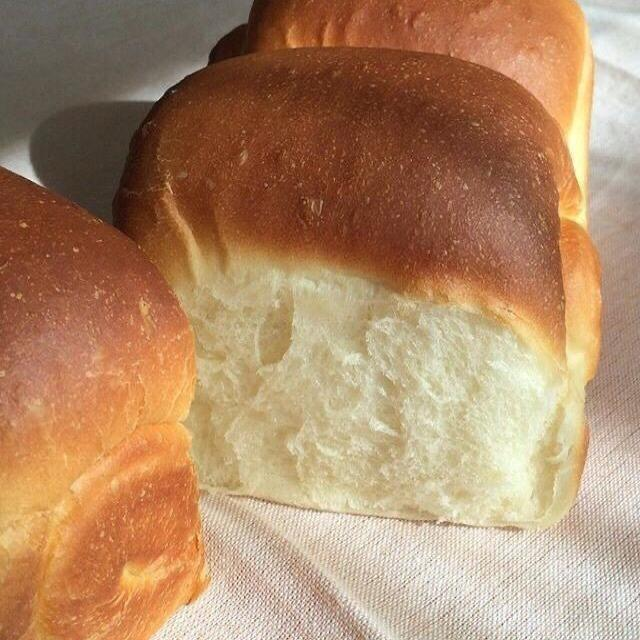bread: (114, 48, 589, 527), (0, 169, 206, 639), (210, 0, 592, 227), (212, 0, 592, 190)
